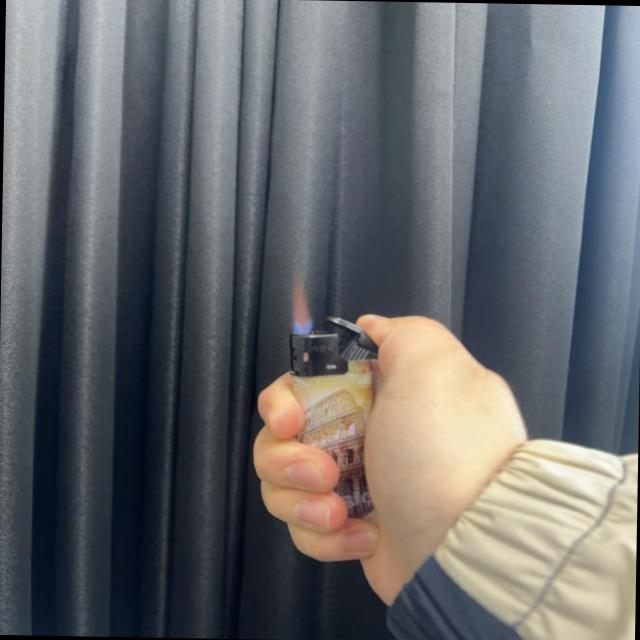Fire: (288, 275, 314, 335)
